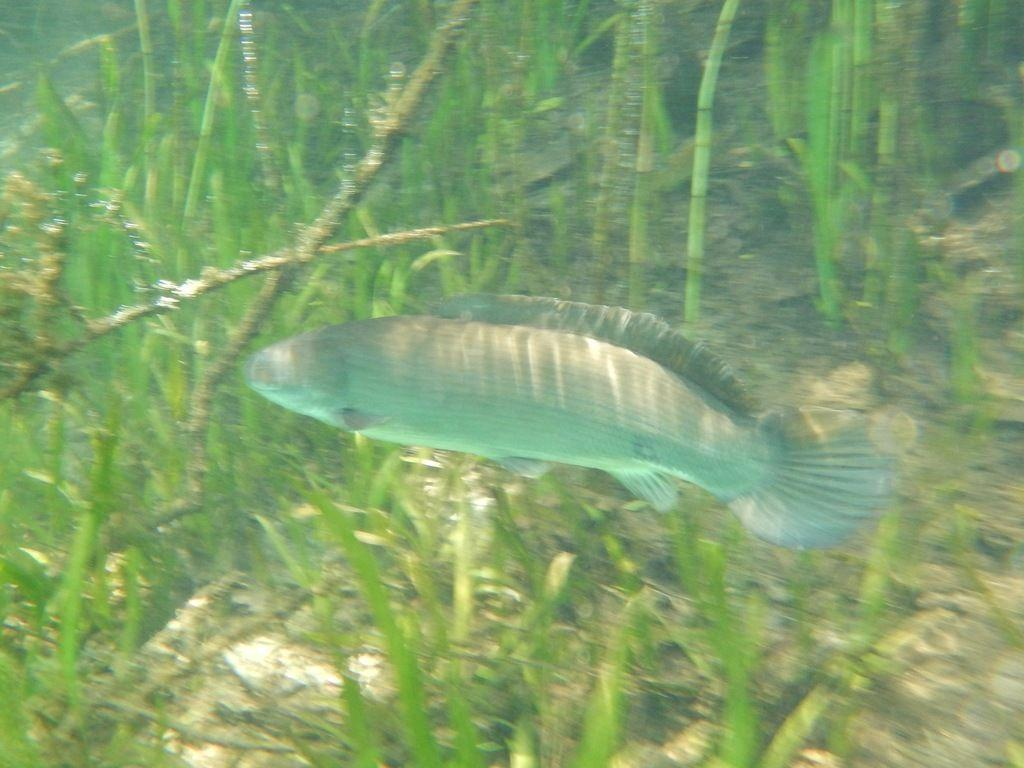Mudfish: (251, 290, 890, 550)
